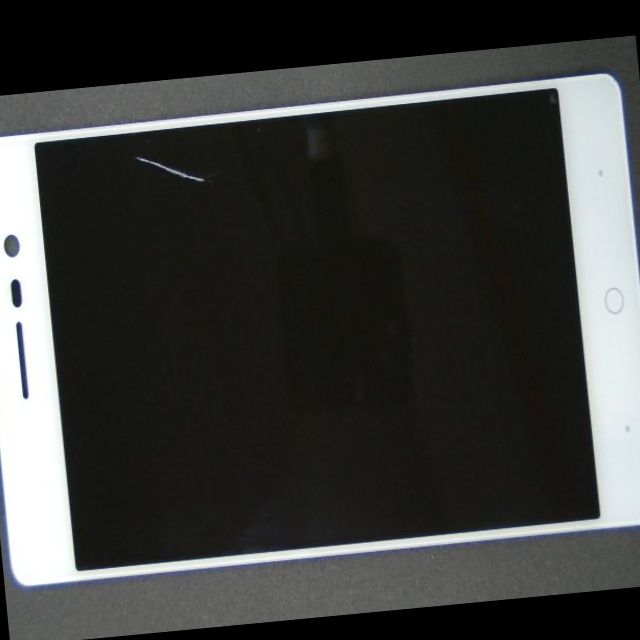scratch: (132, 136, 299, 212)
